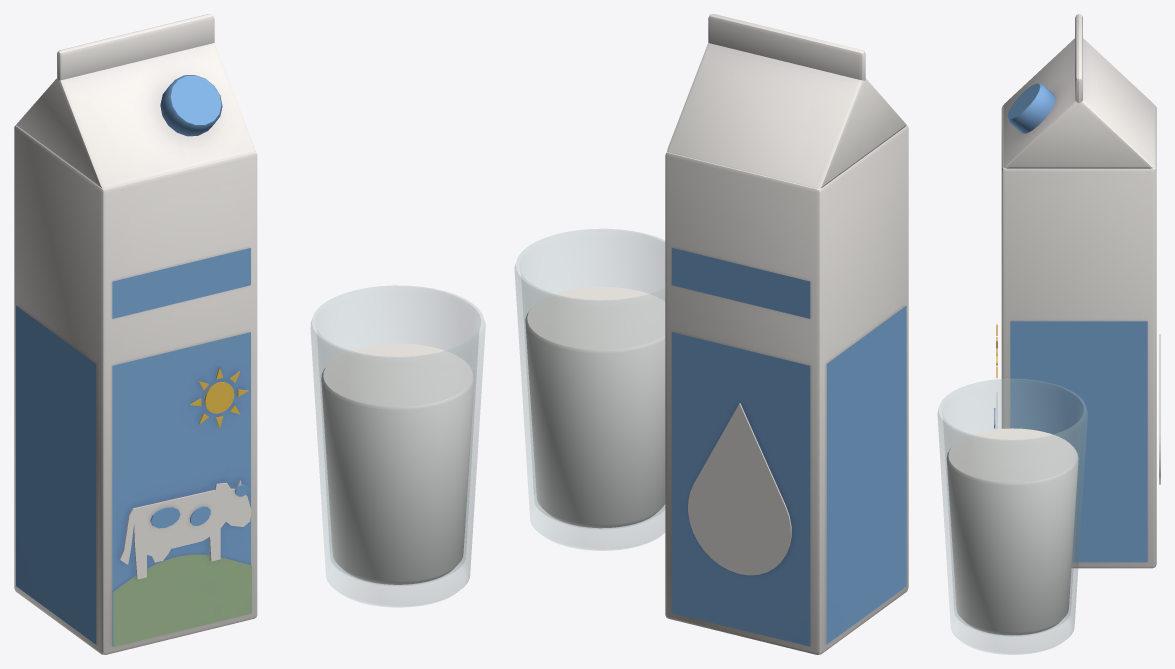
File: milk_carton_cc0.glb
3 renders of one model, left to right at view 1: azimuth 30°, elevation 25°; view 2: azimuth 150°, elevation 25°; view 3: azimuth 270°, elevation 25°, orthographic. The views are drawn at different scales.
Parts seen in each view (by area): view 1: milk-carton_body, milk-carton_tumbler_glass; view 2: milk-carton_body, milk-carton_tumbler_glass; view 3: milk-carton_body, milk-carton_tumbler_glass.
Part boxes in pixels (<box>): milk-carton_body: <box>14,14,474,654</box>; milk-carton_tumbler_glass: <box>310,285,485,607</box>; milk-carton_body: <box>525,14,908,654</box>; milk-carton_tumbler_glass: <box>514,229,665,550</box>; milk-carton_body: <box>946,14,1160,635</box>; milk-carton_tumbler_glass: <box>937,379,1087,654</box>.
Size of the model in its own units: 0.1696 by 0.245 by 0.1008.
2 materials, 1 textured.
